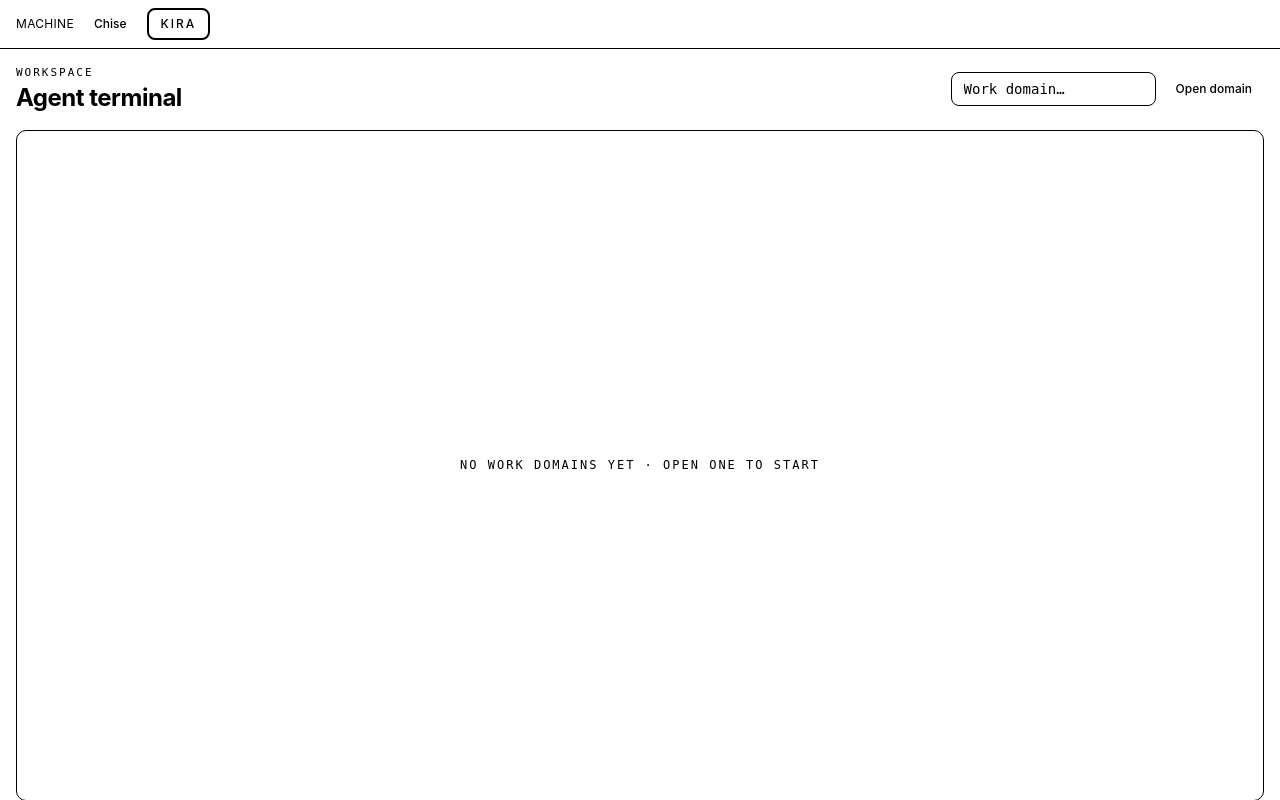
Test: WorkspaceMachineRouter routes the workspace terminal to the selected machine › remounts the workspace onto the selected machine's compute so its live sessions replace the previous machine's
Type "alpha" into the field named "New work domain" at (1053,89), box [950, 72, 1156, 106]
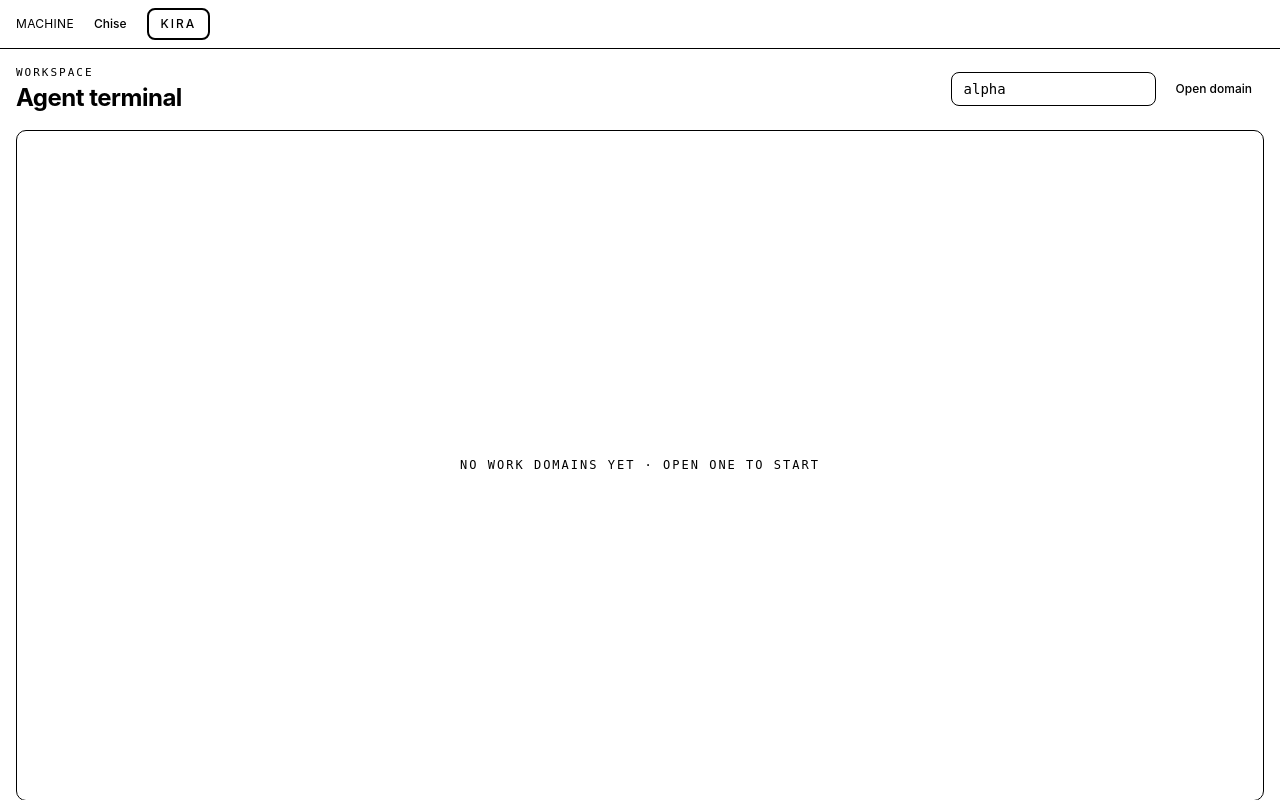
Click the button "Open domain" at (1214,89), box [1164, 73, 1264, 105]
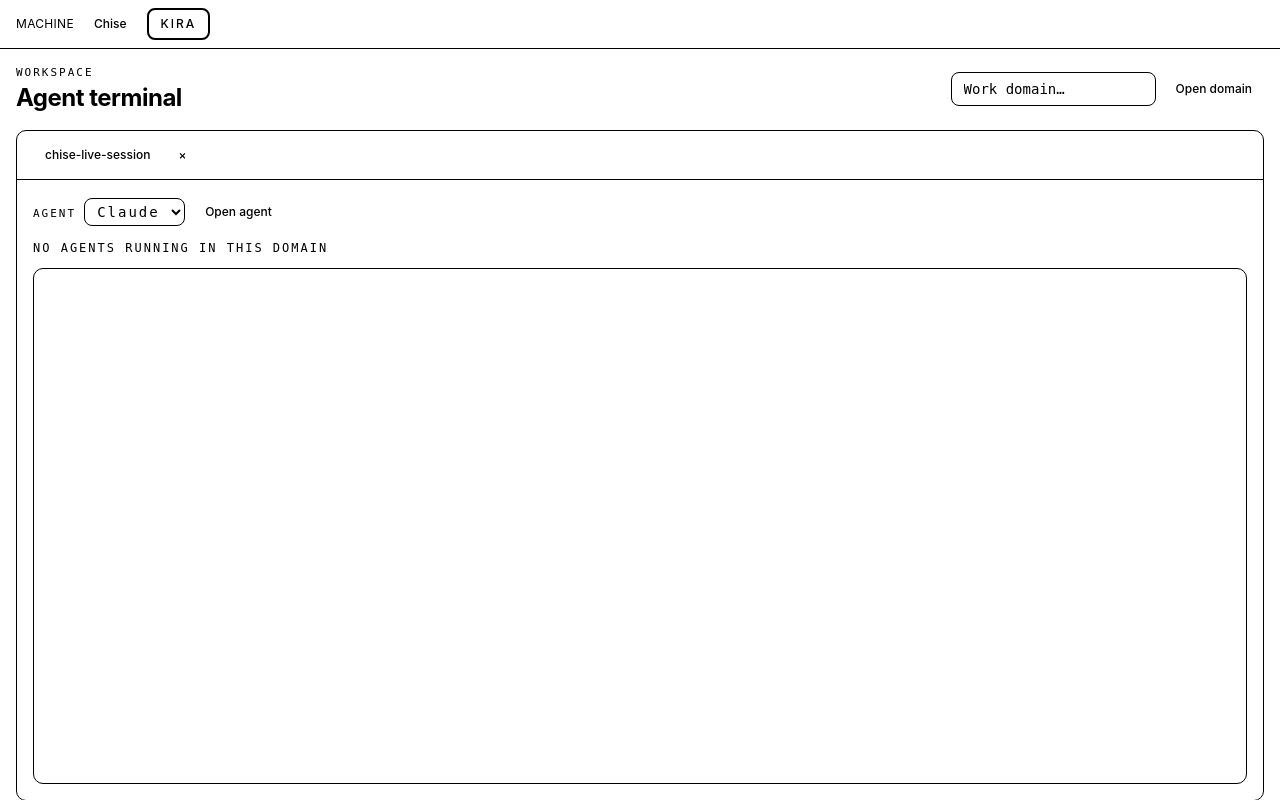
expect the button "chise-live-session" is shown: met, box [33, 138, 162, 170]
Click the button "Kira" at (178,24), box [146, 8, 210, 40]
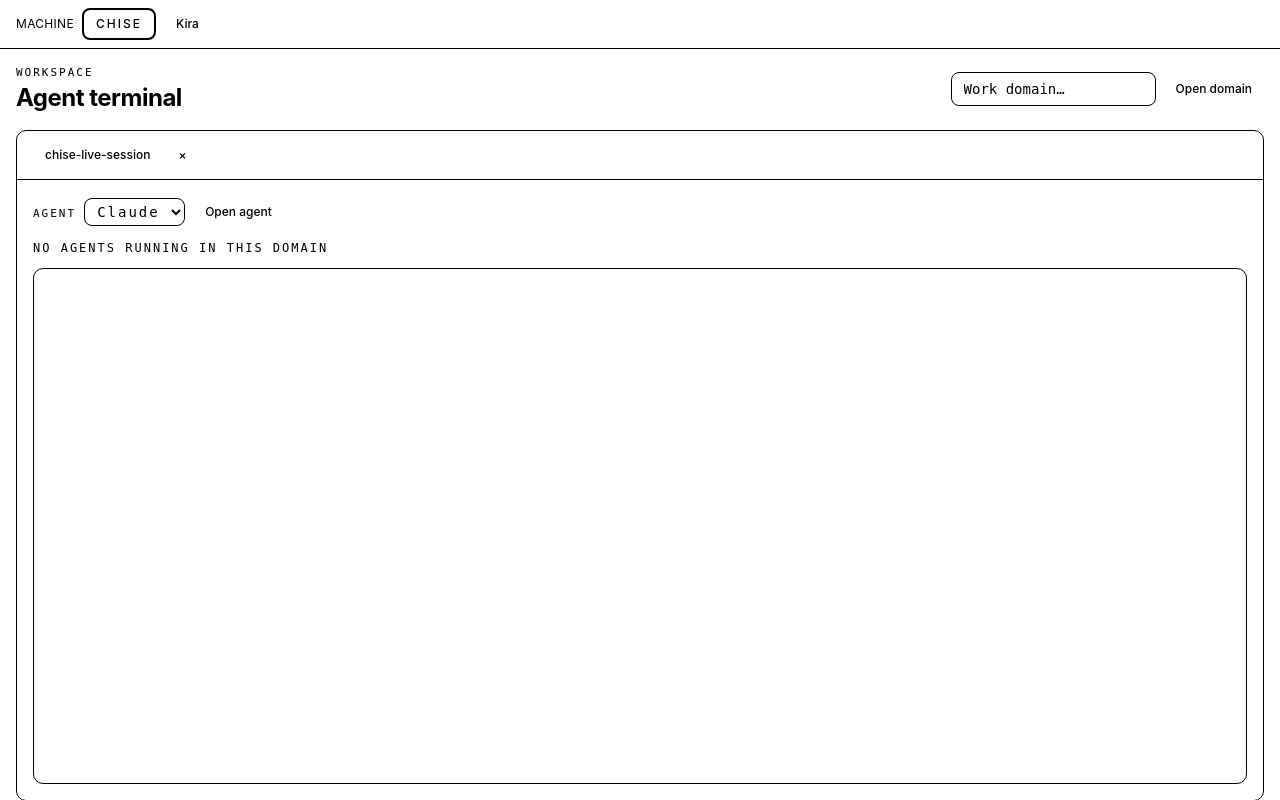
Type "beta" into the field named "New work domain" at (1053,89), box [950, 72, 1156, 106]
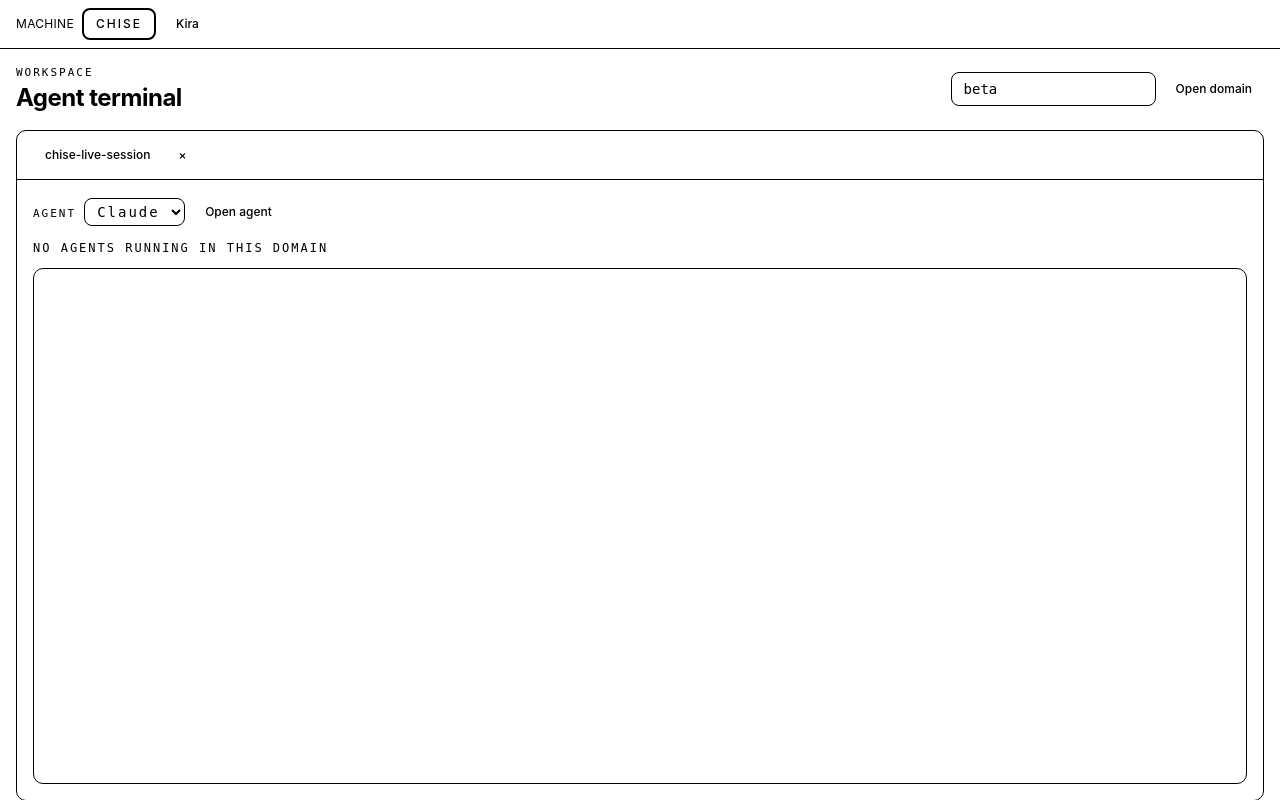
Click the button "Open domain" at (1214,89), box [1164, 73, 1264, 105]
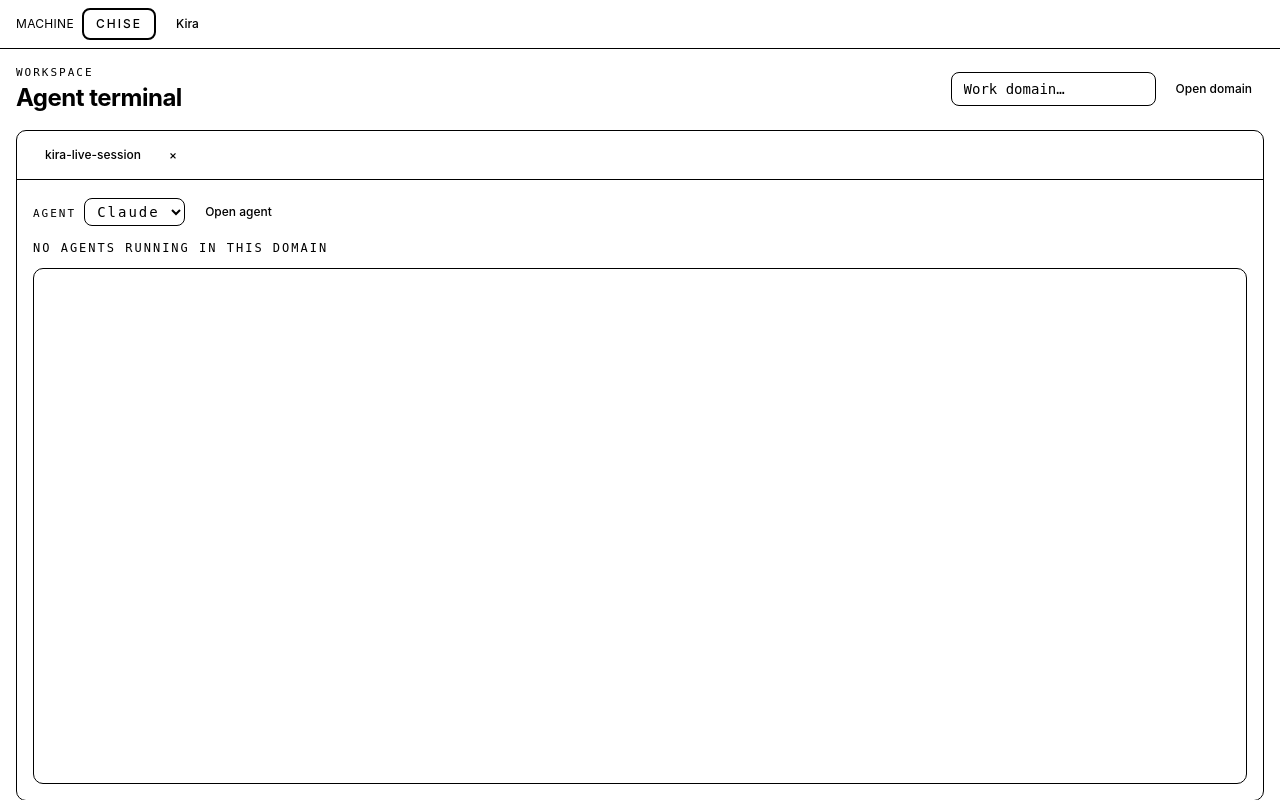
expect the button "kira-live-session" is shown: met, box [33, 138, 153, 170]
expect the button "chise-live-session" is gone: met
